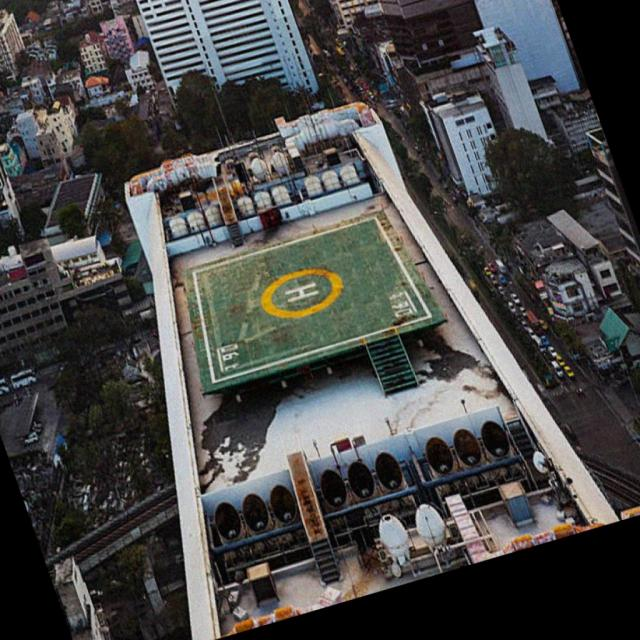helipad: (258, 266, 344, 320)
